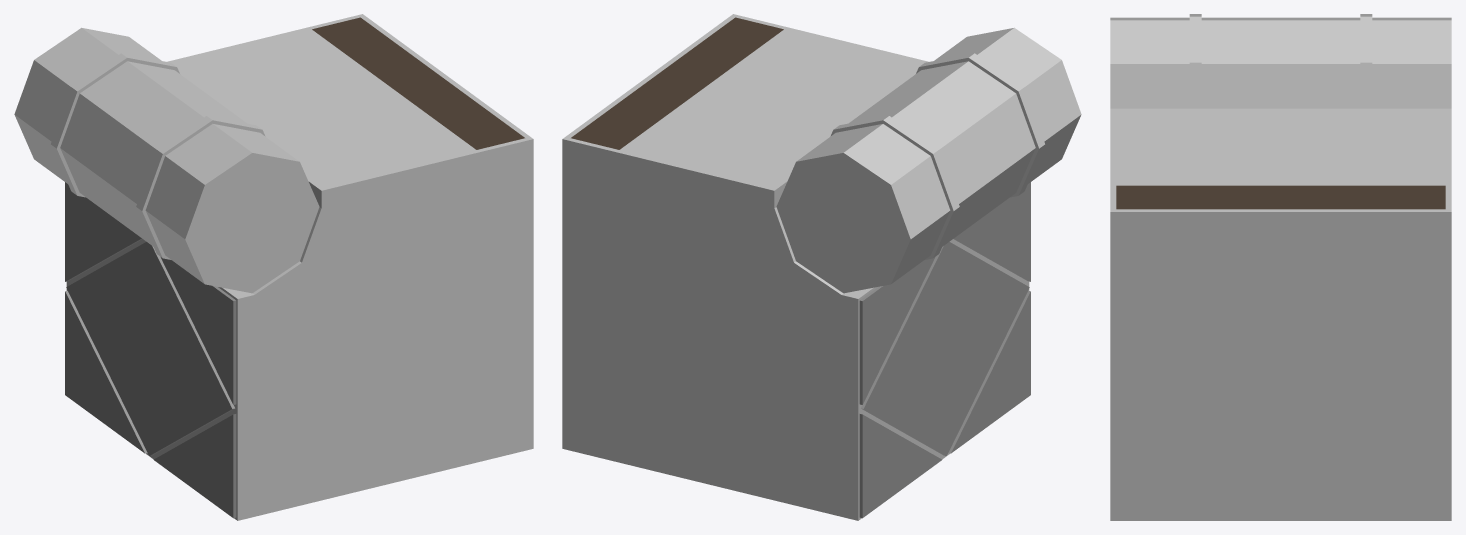
Rendered from Building_10.FBX.
3 renders of one model, left to right at view 1: azimuth 30°, elevation 25°; view 2: azimuth 150°, elevation 25°; view 3: azimuth 270°, elevation 25°, orthographic.
Parts seen in each view (by area): view 1: Building_10_LOD0; view 2: Building_10_LOD0; view 3: Building_10_LOD0.
Part boxes in pixels (<box>): Building_10_LOD0: <box>14,14,533,520</box>; Building_10_LOD0: <box>562,14,1081,520</box>; Building_10_LOD0: <box>1110,14,1451,520</box>.
Size of what is drawn, in the model's own units: 214 by 214 by 180.
